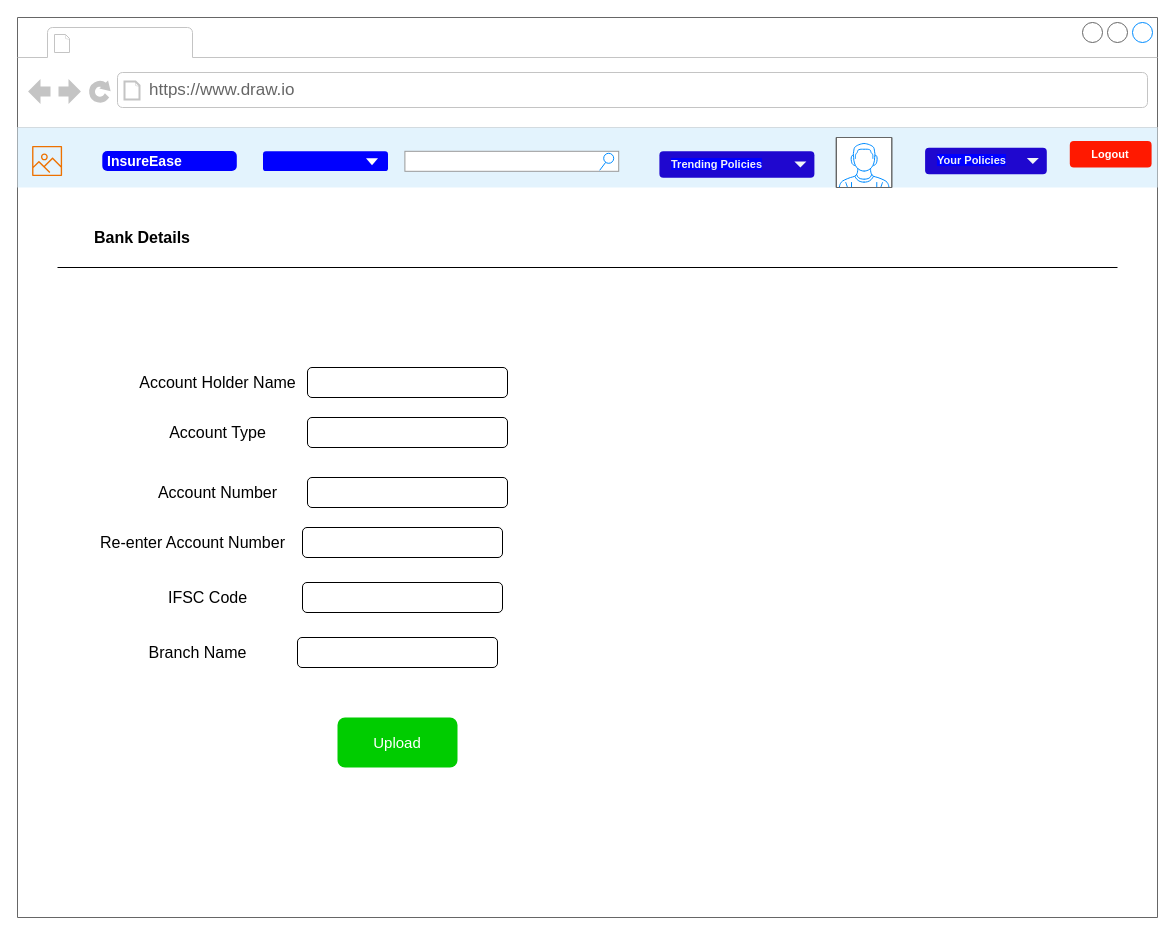
Image size: 1175x935. Some labels were removed from this diagram. The centre of each missing label's shape, as x and y in pixels:
Page 1: point (132, 42)
Products: point (325, 161)
Search: point (511, 160)
